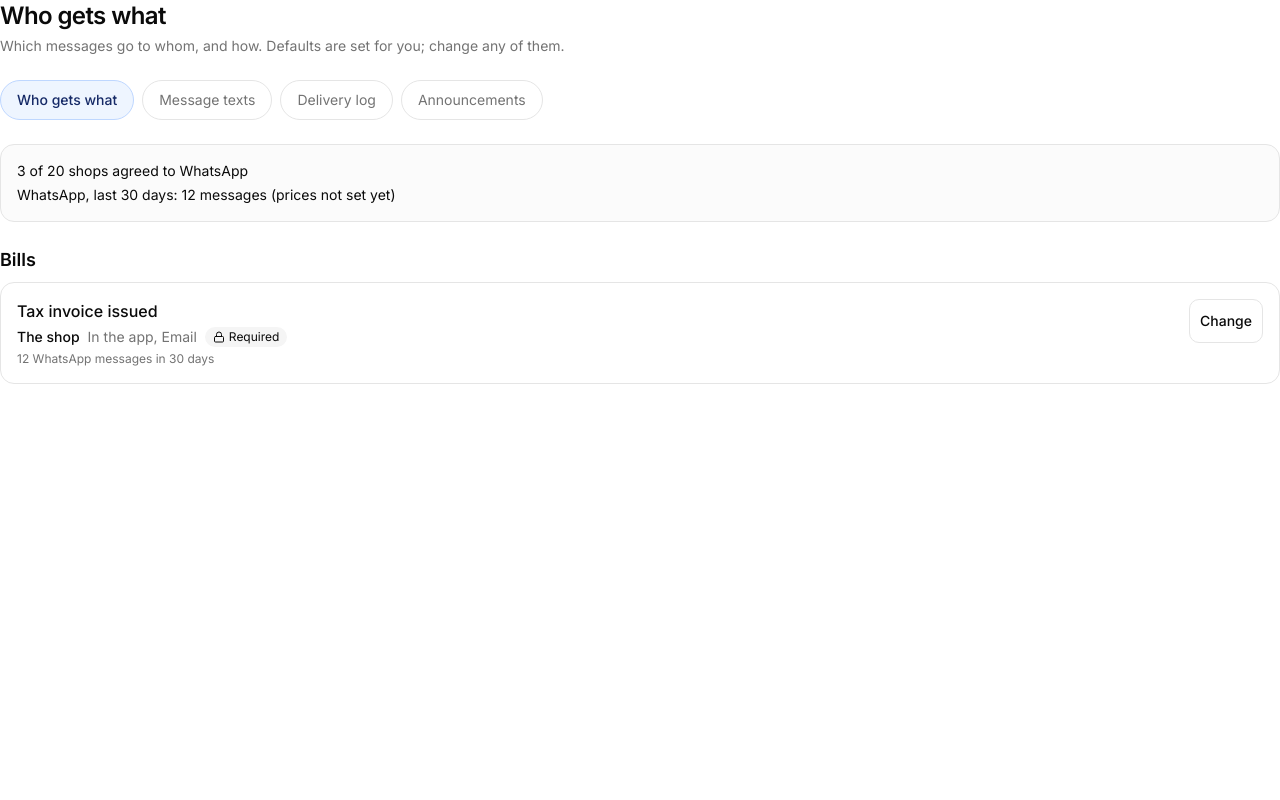
Test case: WhatsApp waiting for the provider's approval › offers WhatsApp only once the text is approved
The image size is (1280, 800).
Click the button with aria-label "Change: Tax invoice issued": (1226, 321) [1189, 299, 1263, 343]
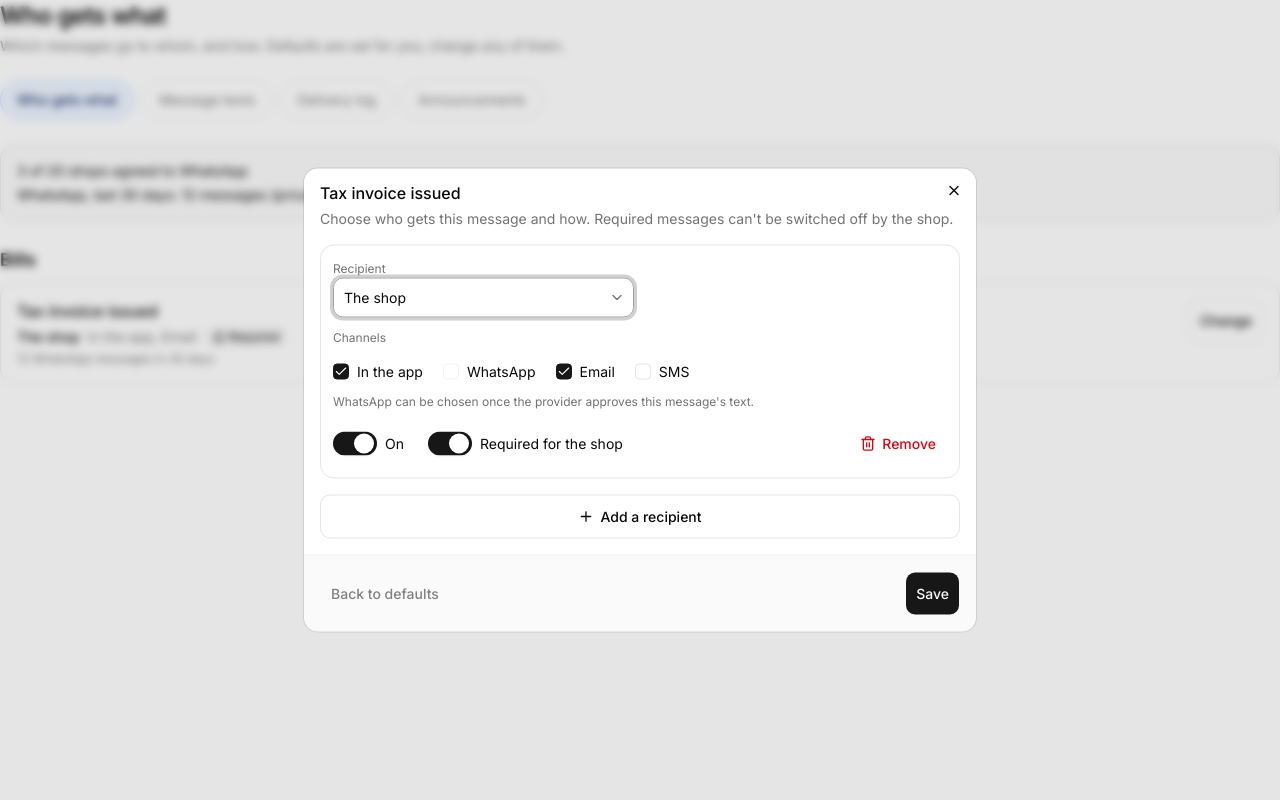
Now the text "WhatsApp can be chosen once the provider approves this message's text." is shown, box [333, 394, 754, 408]
